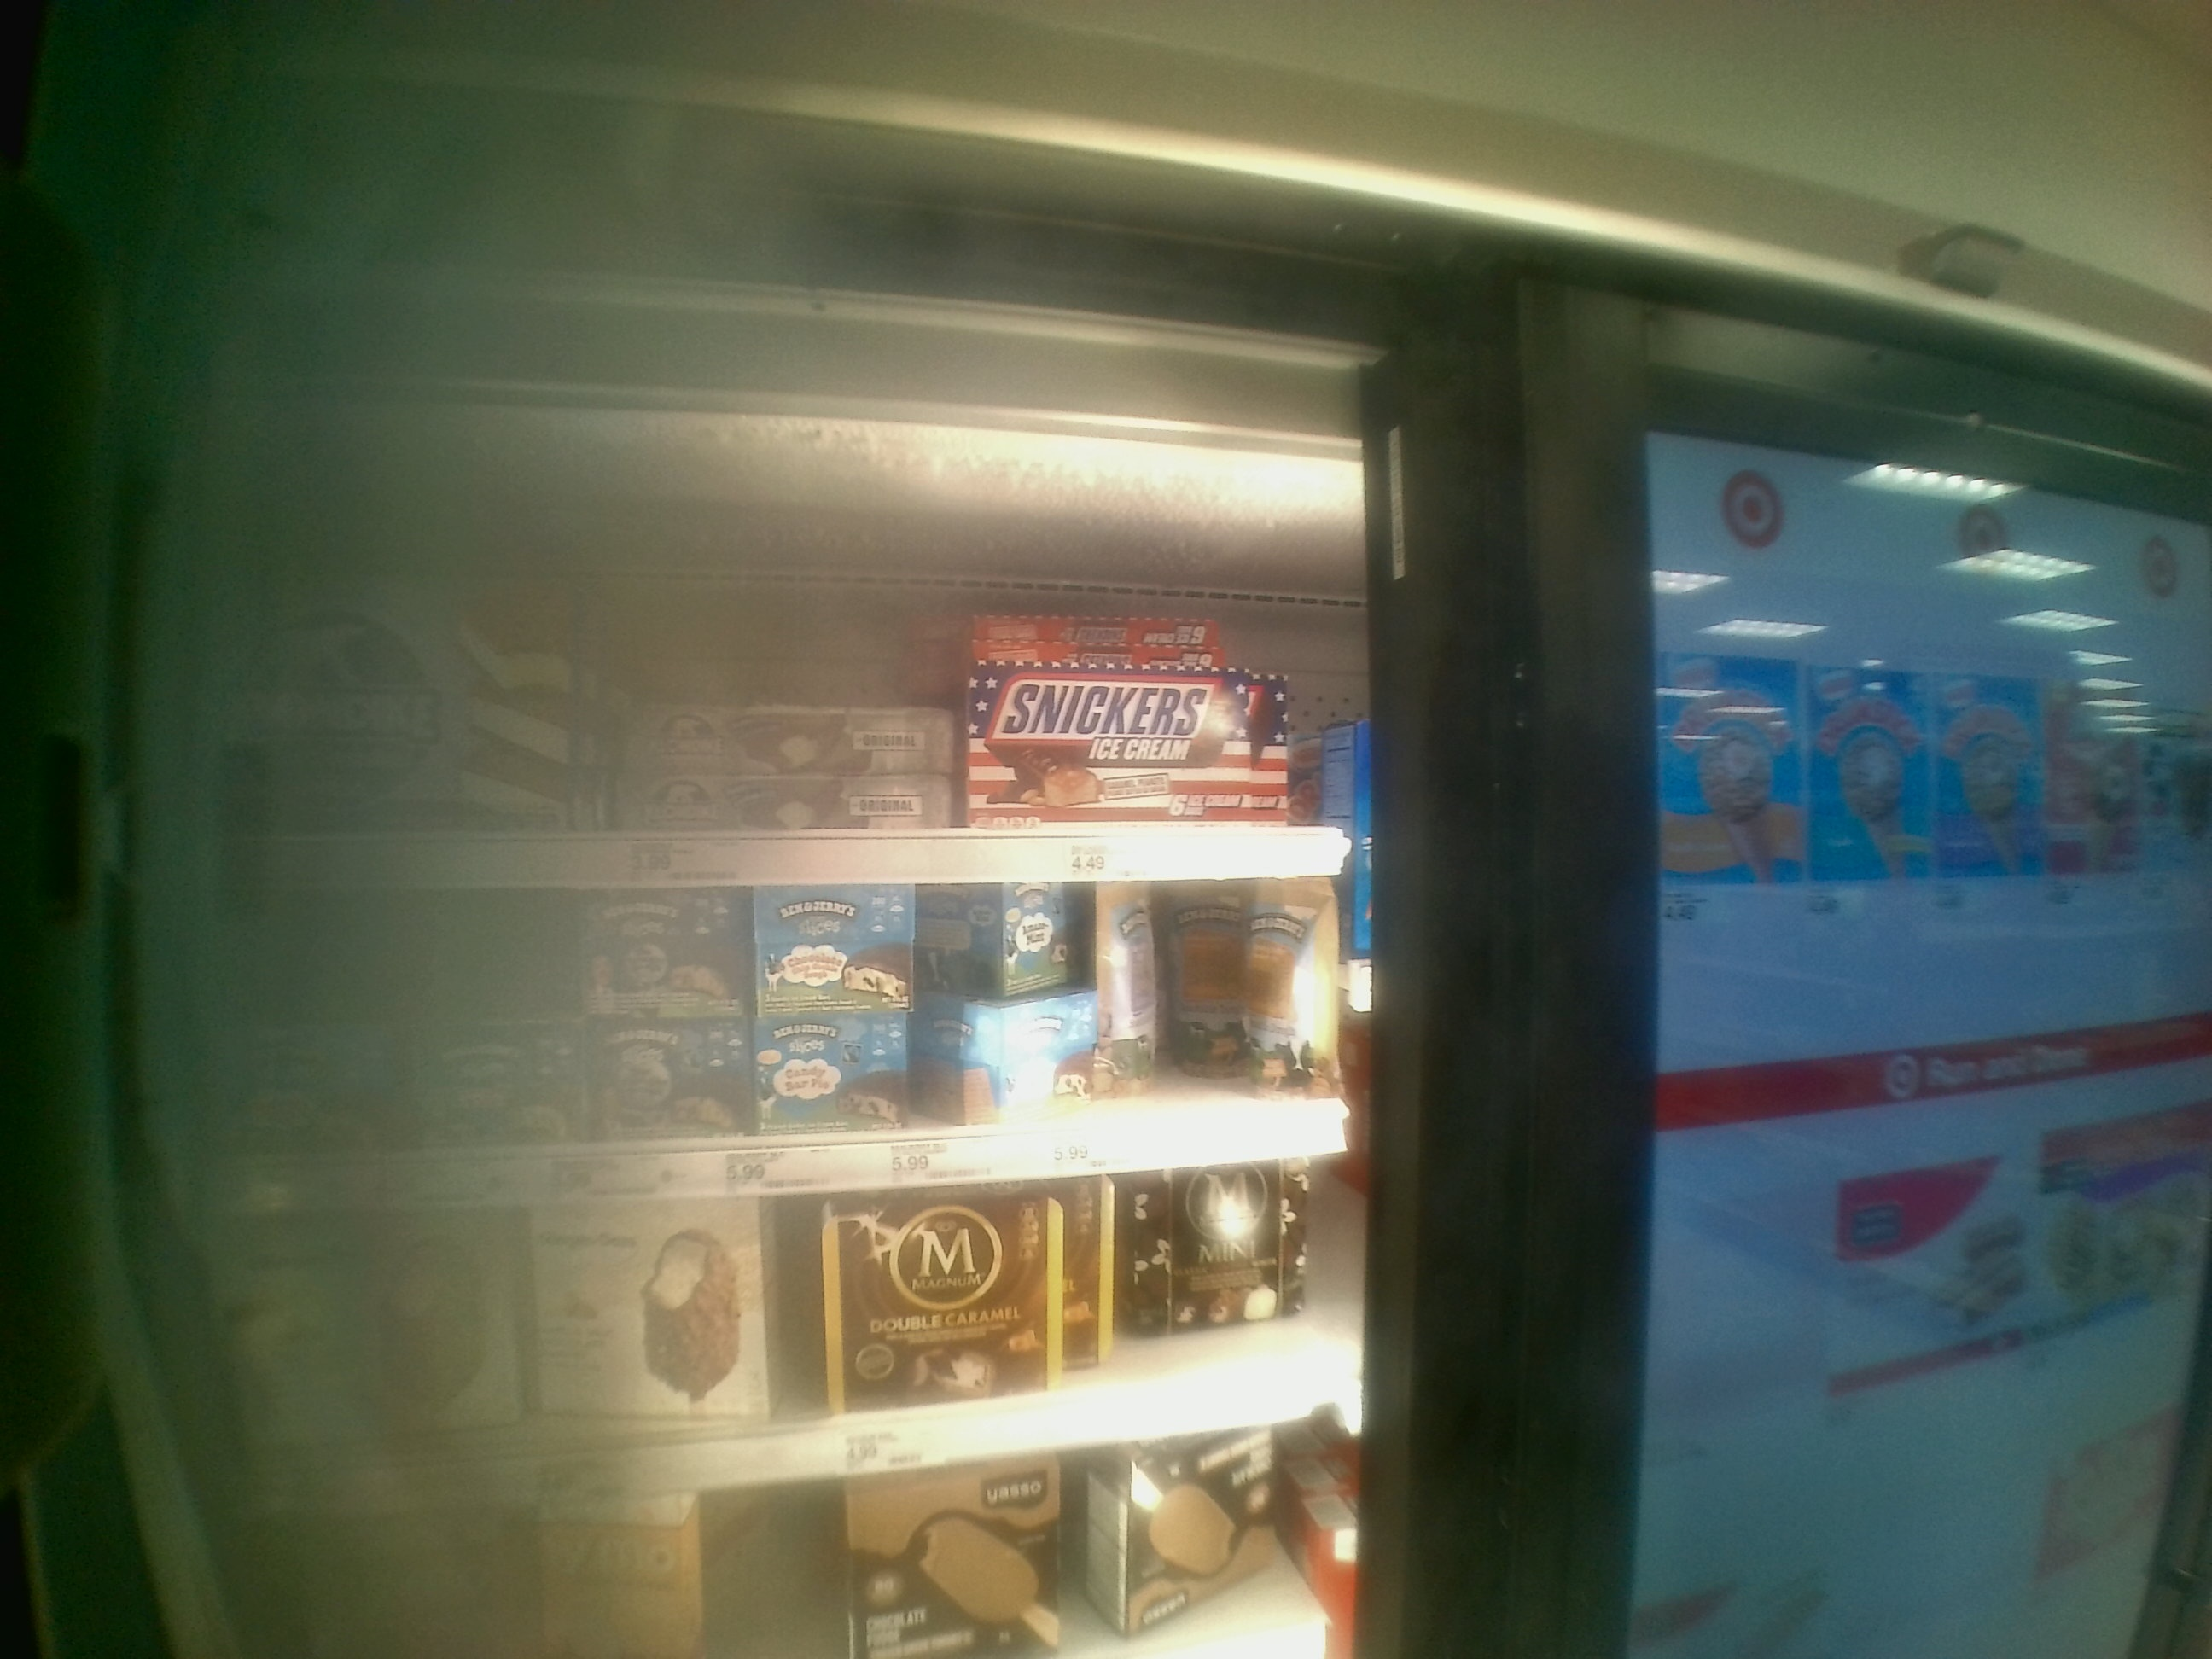shelf: (179, 471, 1367, 892), (188, 1154, 1350, 1540), (185, 871, 1367, 1213)
